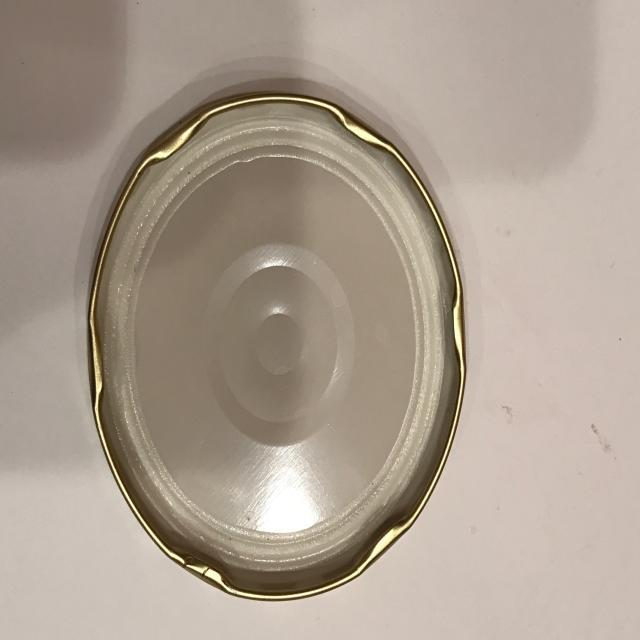metal: (84, 96, 467, 603)
